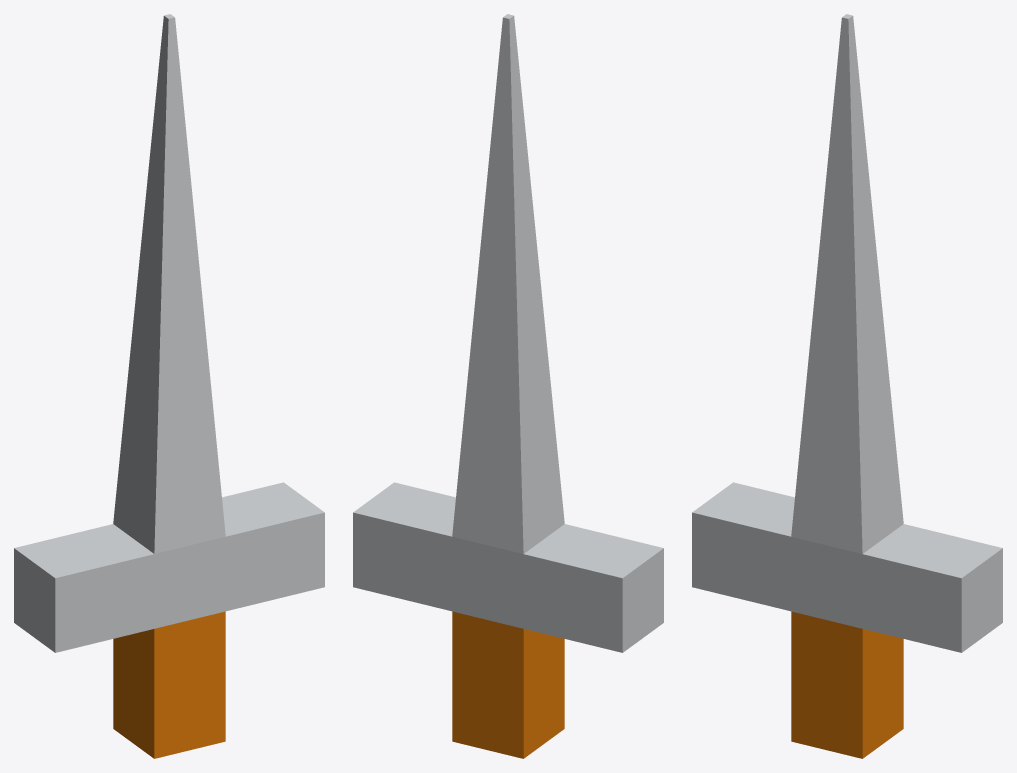
Rendered from Sword.fbx.
3 views of the same model, side by side, from view 1: azimuth 30°, elevation 25°; view 2: azimuth 150°, elevation 25°; view 3: azimuth 330°, elevation 25° (orthographic).
Visible parts, largest first — view 1: Cube; view 2: Cube; view 3: Cube.
Boxes of the visible parts, x1,y1,x2,y2 form: Cube: (14,14,324,758); Cube: (353,14,663,758); Cube: (692,14,1002,758).
Bounding box in the file's own units: 755 × 1924 × 200.
